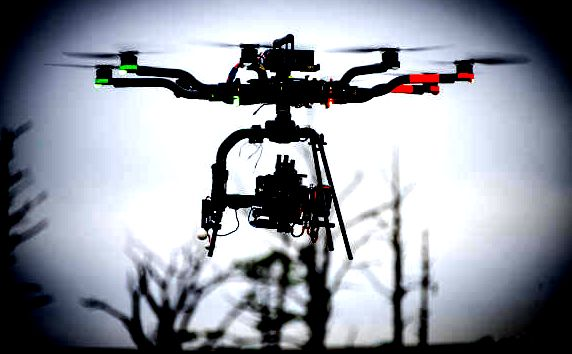Drone: (41, 28, 530, 273)
